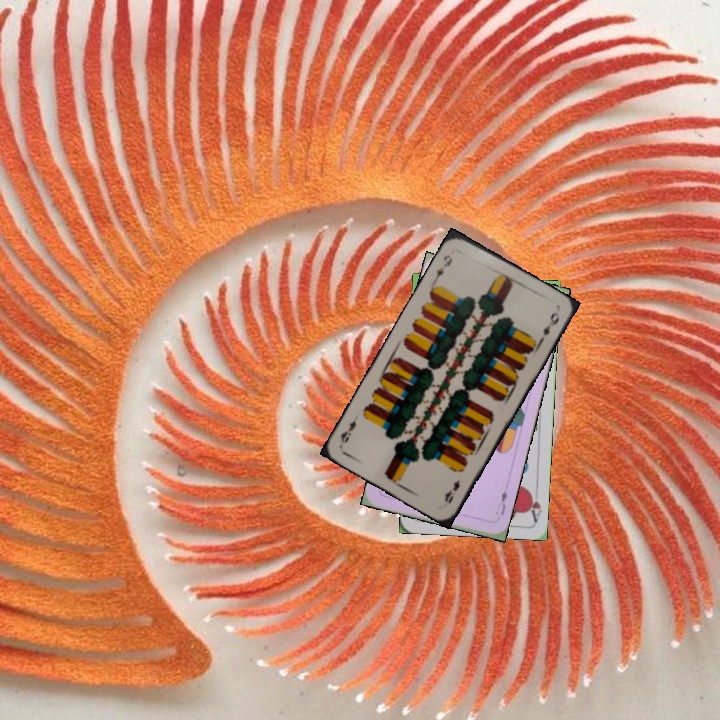E9: (430, 251, 455, 284), (440, 476, 463, 506)
EU: (492, 487, 510, 518)
HA: (524, 483, 544, 524)
